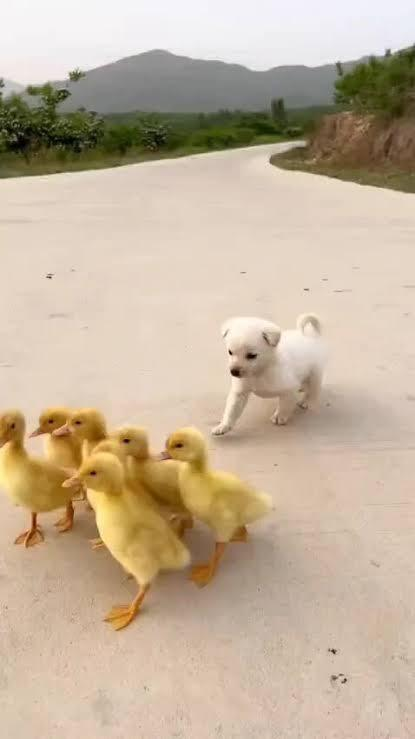non-dog: (61, 451, 194, 632), (158, 425, 276, 587), (0, 409, 87, 549), (112, 426, 194, 527), (52, 405, 108, 505), (27, 405, 78, 470)
puppy-dog: (210, 313, 330, 438)
